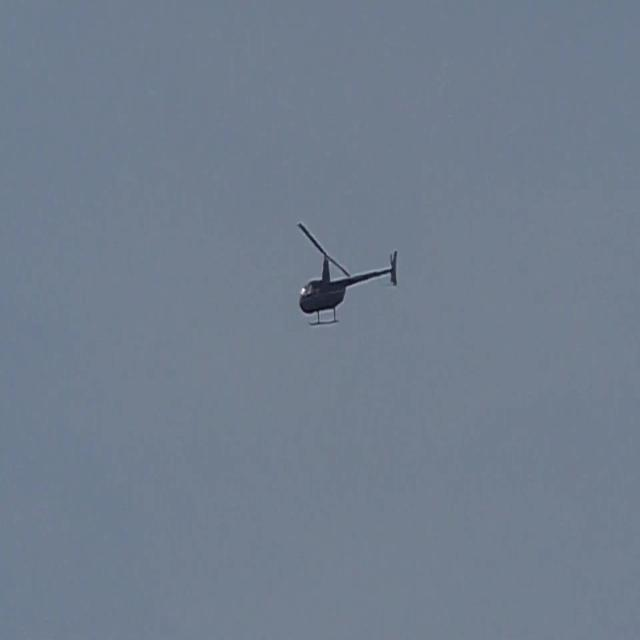CIV_HELO: (299, 248, 399, 327)
